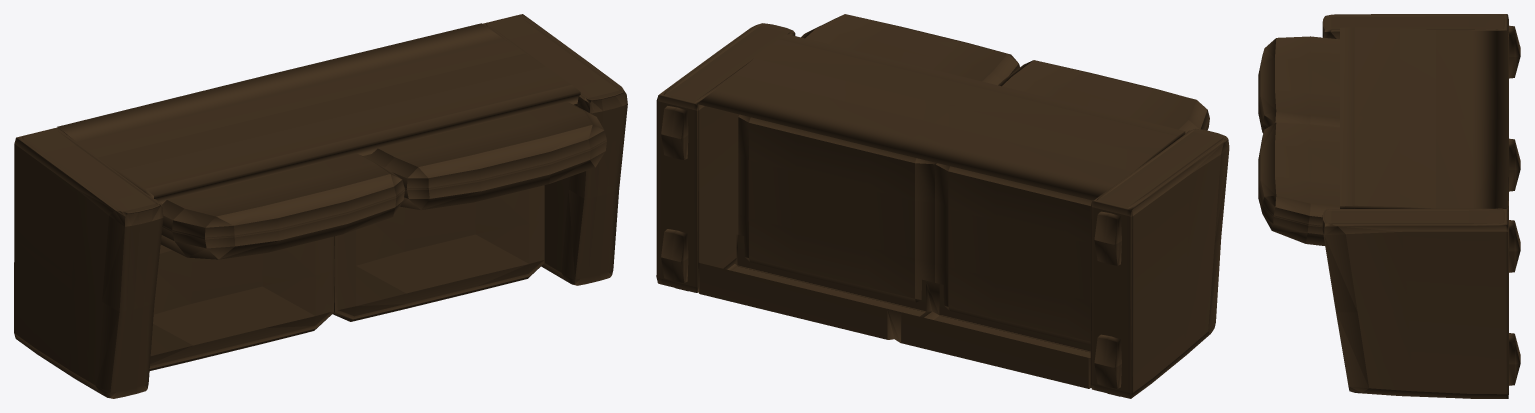
Rendered from MeshSofa_201_0.obj.
3 renders of one model, left to right at view 1: azimuth 30°, elevation 25°; view 2: azimuth 150°, elevation 25°; view 3: azimuth 270°, elevation 25°, orthographic. The views are drawn at different scales.
Visible parts, largest first — view 1: Sofa_201; view 2: Sofa_201; view 3: Sofa_201.
Part boxes in pixels (<box>): Sofa_201: <box>14,14,627,398</box>; Sofa_201: <box>656,14,1229,398</box>; Sofa_201: <box>1258,14,1520,398</box>.
Bounding box in the file's own units: 1.94 × 0.7698 × 1.01.
